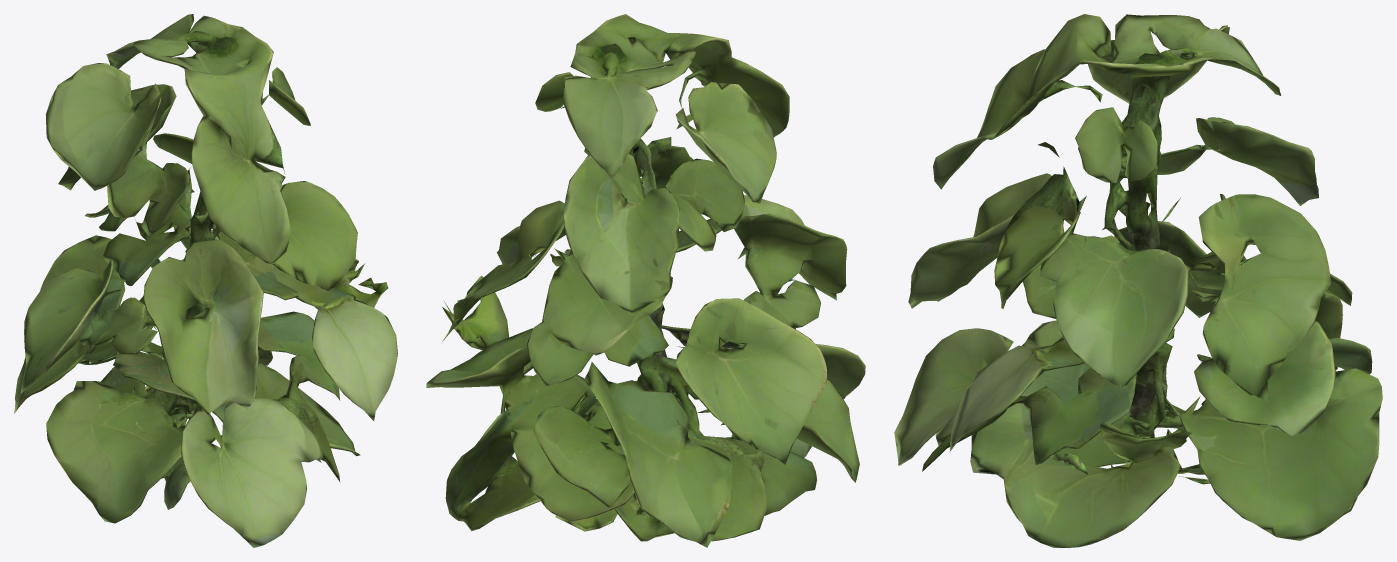
File: giloy.glb
3 renders of one model, left to right at view 1: azimuth 30°, elevation 25°; view 2: azimuth 150°, elevation 25°; view 3: azimuth 270°, elevation 25°, orthographic. The views are drawn at different scales.
Parts seen in each view (by area): view 1: Object_4; view 2: Object_4; view 3: Object_4.
Part boxes in pixels (bbox=[...]): Object_4: bbox=[14, 14, 397, 547]; Object_4: bbox=[426, 14, 865, 547]; Object_4: bbox=[894, 14, 1382, 547].
Size of the model in its own units: 1.75 by 2 by 1.95.
1 material, 1 textured.
